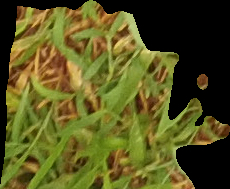grass: (1, 1, 229, 188)
